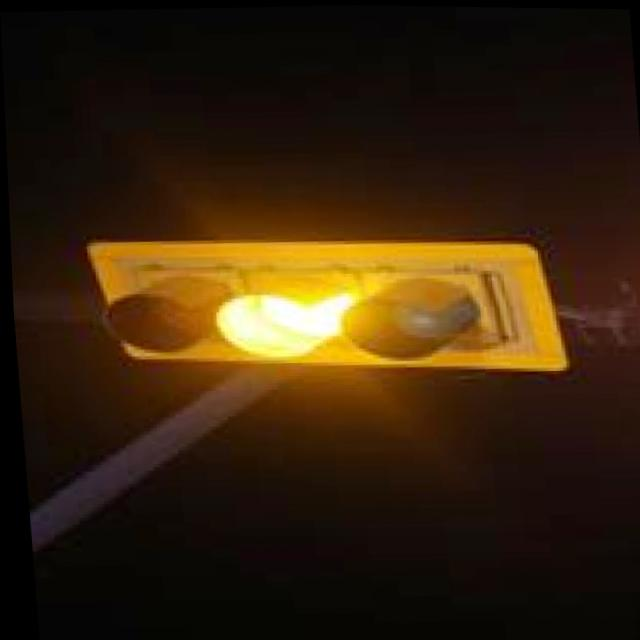yellow_light: (213, 250, 356, 374)
